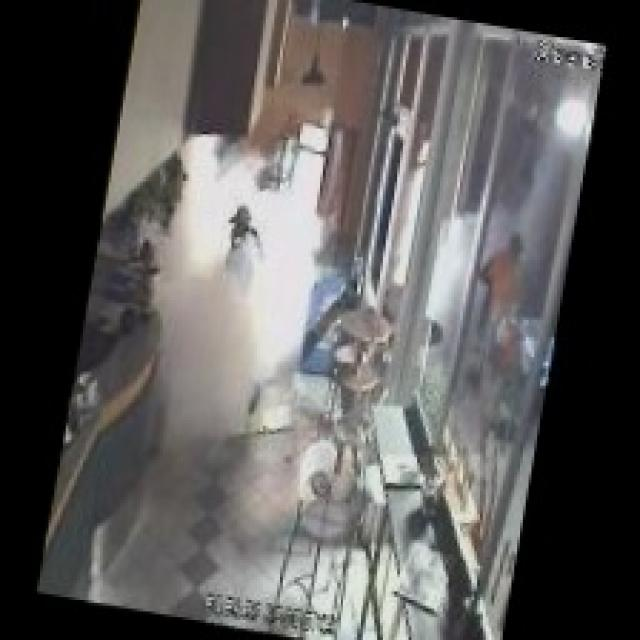smoke: (113, 111, 356, 506)
